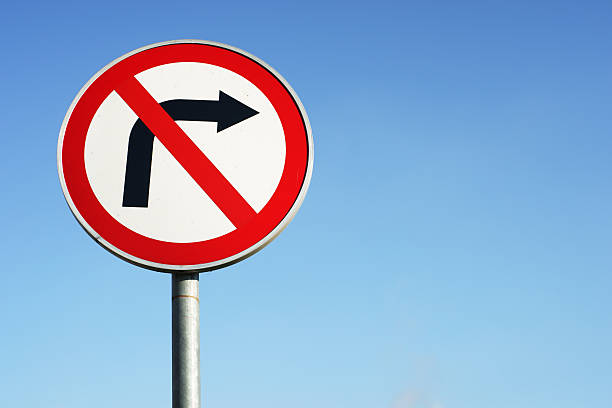saga_girilmez: (49, 35, 311, 269)
